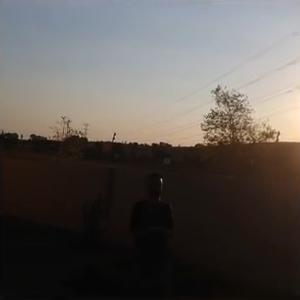follow: (120, 167, 178, 298)
